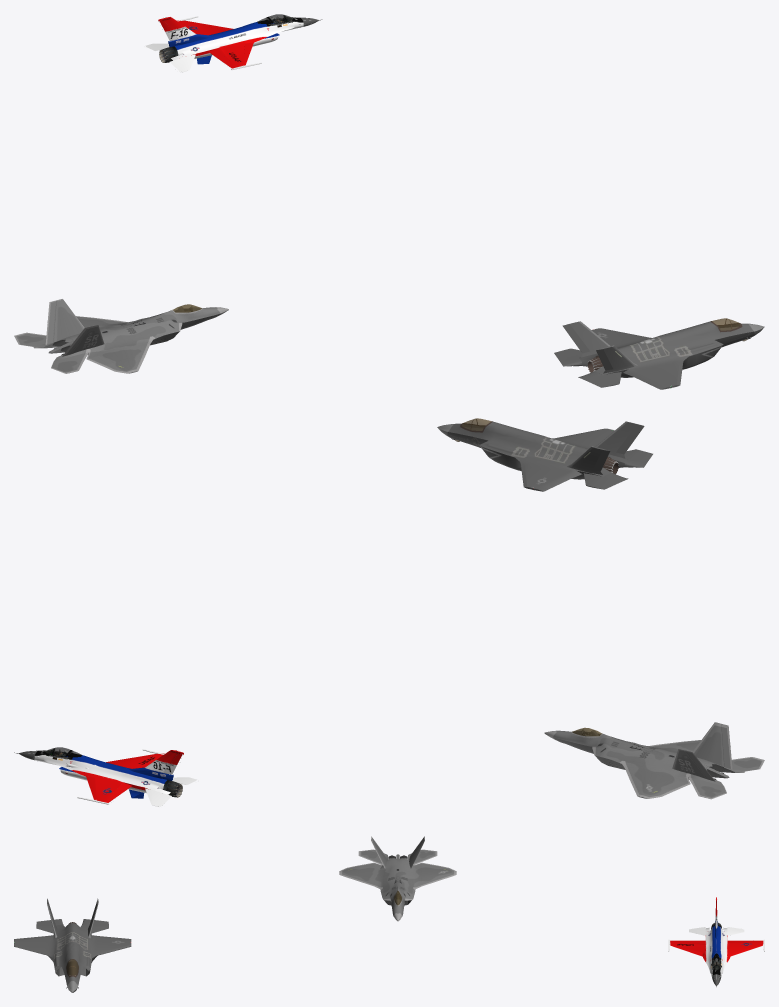
The model's file is oshff1.glb.
3 renders of one model, top to bottom at view 1: azimuth 30°, elevation 25°; view 2: azimuth 150°, elevation 25°; view 3: azimuth 270°, elevation 25°, orthographic. The views are drawn at different scales.
Parts seen in each view (by area): view 1: fuselage, Cylinder, gearDoorRight; view 2: fuselage, Cylinder, gearDoorRight; view 3: fuselage, Cylinder, gearDoorRight.
Part boxes in pixels (x1,y1,x2,y2): fuselage: (554,318,764,389); Cylinder: (14,299,228,373); gearDoorRight: (146,14,322,72); fuselage: (437,418,652,491); Cylinder: (544,722,764,799); gearDoorRight: (14,747,196,806); fuselage: (14,898,131,992); Cylinder: (339,836,456,921); gearDoorRight: (668,897,764,986).
Size of the model in its own units: 48.92 by 10.23 by 81.94.
Materials: 31 (8 with a texture image).
